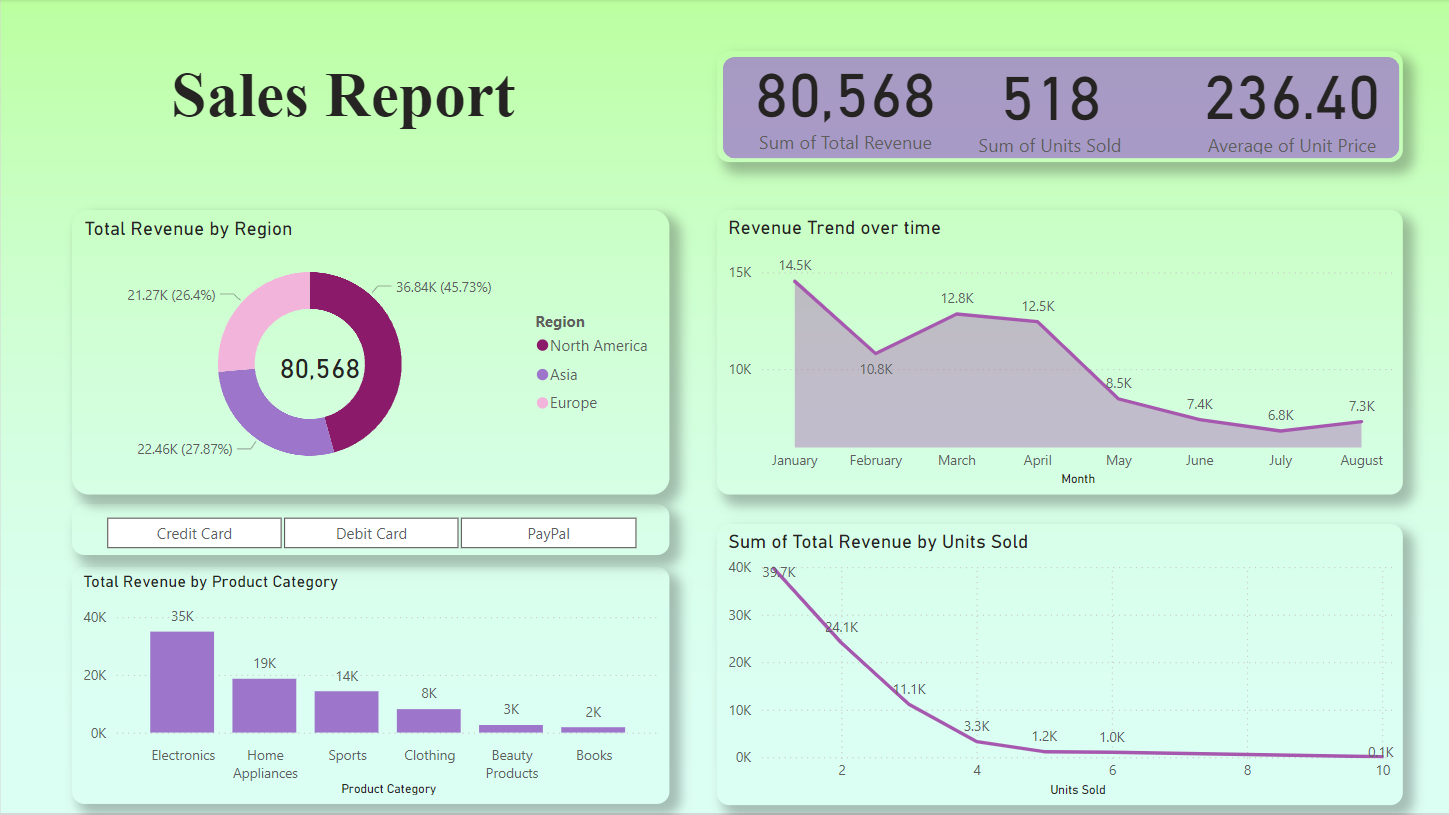

This screenshot's page, from the dashboard's own definition file:
{"tool":"powerbi","page":{"name":"Page 1","canvas":[1280,720],"ordinal":0},"visuals":[{"type":"donutChart","title":"Total Revenue by Region","fields":{"Y":["Sum(Online Sales Data.Total Revenue)"],"Category":["Online Sales Data.Region"]},"box":[63.1,200.4,527.1,250.2],"z":0},{"type":"shape","box":[632.5,45.9,605.2,97.9],"z":1000},{"type":"slicer","fields":{"Values":["Online Sales Data.Payment Method"]},"box":[63.1,456.6,527.1,44.9],"z":2000},{"type":"card","fields":{"Values":["Sum(Online Sales Data.Total Revenue)"]},"box":[235.5,294.6,93.5,87.3],"z":3000},{"type":"textbox","box":[52.2,47.4,501.6,97.2],"z":4000},{"type":"card","fields":{"Values":["Sum(Online Sales Data.Total Revenue)"]},"box":[632.5,34.4,195.8,107.6],"z":5000},{"type":"lineChart","fields":{"Category":["Online Sales Data.Units Sold"],"Y":["Sum(Online Sales Data.Total Revenue)"]},"box":[632.7,462.7,604.8,247.7],"z":6000},{"type":"card","fields":{"Values":["Sum(Online Sales Data.Units Sold)"]},"box":[828.3,37.1,195.8,107.6],"z":7000},{"type":"card","fields":{"Values":["Avg(Online Sales Data.Unit Price)"]},"box":[1041.8,38.8,195.8,103.2],"z":8000},{"type":"areaChart","title":"Revenue Trend over time","fields":{"Category":["Online Sales Data.Date.Variation.Date Hierarchy.Month"],"Y":["Sum(Online Sales Data.Total Revenue)"]},"box":[632.7,200.4,604.8,250.2],"z":9000},{"type":"clusteredColumnChart","title":"Total Revenue by Product Category","fields":{"Category":["Online Sales Data.Product Category"],"Y":["Sum(Online Sales Data.Total Revenue)"]},"box":[63.1,511.3,527.1,199.2],"z":10000}]}

Visuals, with their boxes in screenshot pixels (x1, y1, x2, y2), scaled from the page's 1280x720 canvas onto the 1449x815 screenshot:
"Total Revenue by Region" donutChart: 71/227/668/510
shape: 716/52/1401/163
slicer - Online Sales Data.Payment Method: 71/517/668/568
card - Sum(Online Sales Data.Total Revenue): 267/333/372/432
textbox: 59/54/627/164
card - Sum(Online Sales Data.Total Revenue): 716/39/938/161
lineChart - Online Sales Data.Units Sold x Sum(Online Sales Data.Total Revenue): 716/524/1401/804
card - Sum(Online Sales Data.Units Sold): 938/42/1159/164
card - Avg(Online Sales Data.Unit Price): 1179/44/1401/161
"Revenue Trend over time" areaChart: 716/227/1401/510
"Total Revenue by Product Category" clusteredColumnChart: 71/579/668/804
